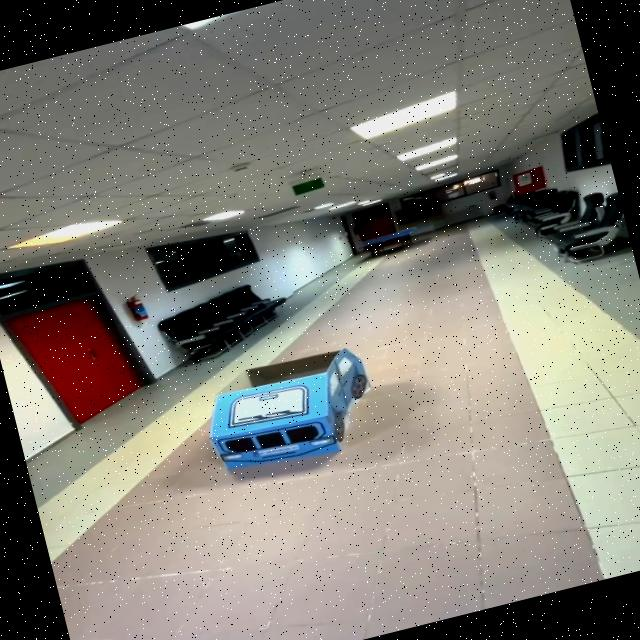blue_car: (173, 333, 402, 504)
